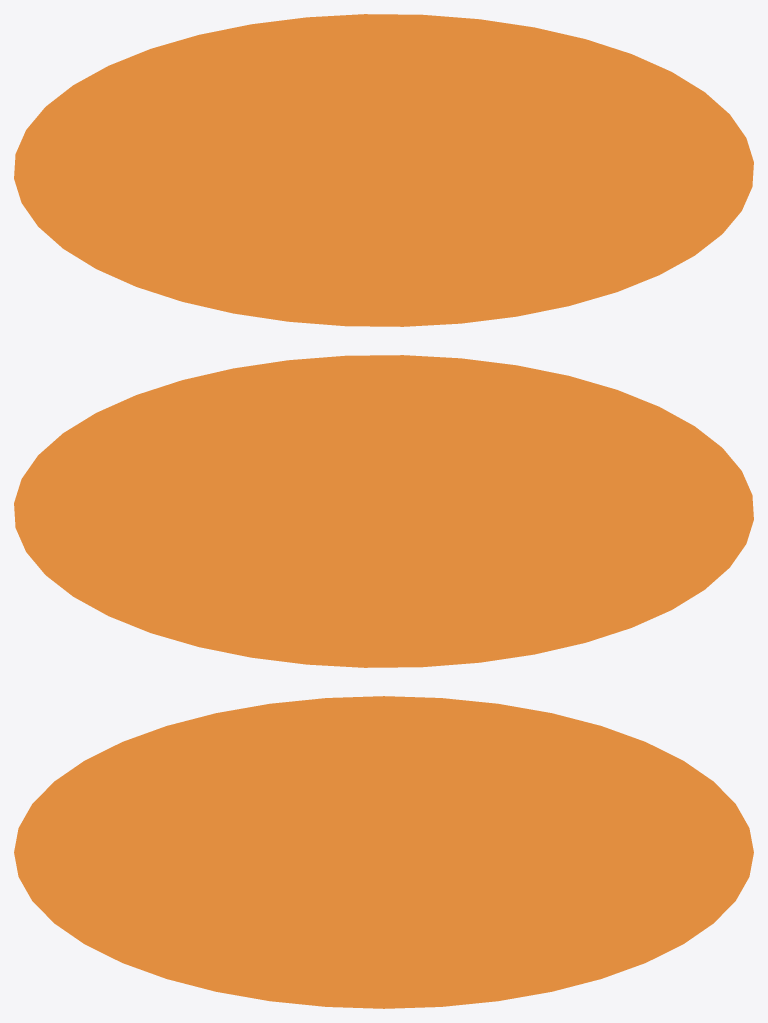
Rendered from WarmPool.obj.
3 renders of one model, top to bottom at view 1: azimuth 30°, elevation 25°; view 2: azimuth 150°, elevation 25°; view 3: azimuth 270°, elevation 25°, orthographic.
Parts seen in each view (by area): view 1: WarmPool; view 2: WarmPool; view 3: WarmPool.
Boxes of the visible parts, bbox=[...] form: WarmPool: bbox=[14, 14, 753, 326]; WarmPool: bbox=[14, 355, 753, 667]; WarmPool: bbox=[14, 696, 753, 1008].
Bounding box in the file's own units: 1.8 × 0.006 × 1.8.
Materials: 3 (3 with a texture image).
